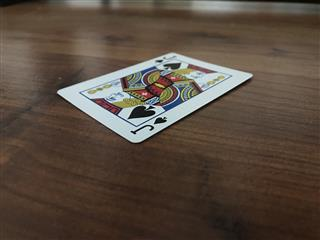JackOfSpades: (56, 52, 254, 145)
